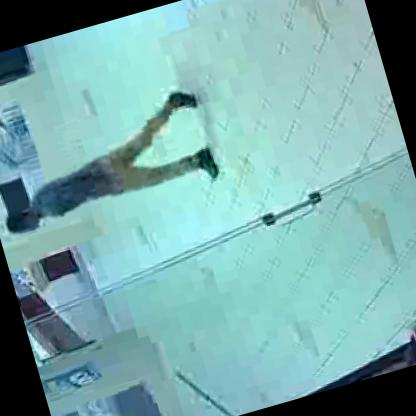Human Body: (0, 83, 223, 237)
